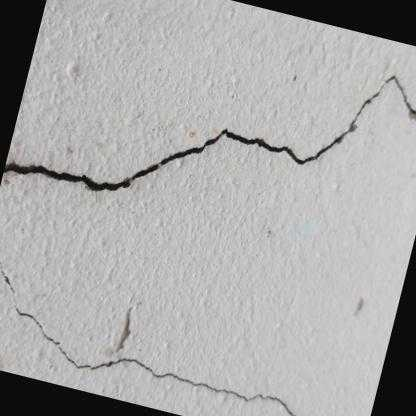crack: (3, 74, 416, 193), (13, 303, 298, 416), (0, 261, 15, 295)
